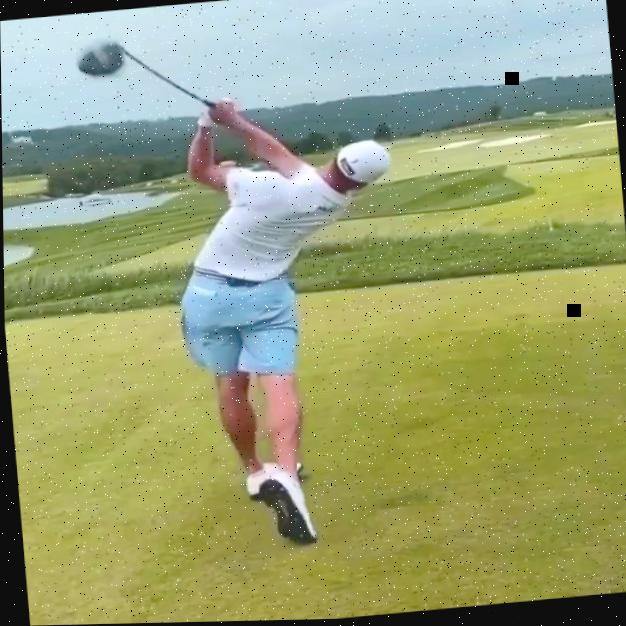ClubHead: (76, 42, 126, 78)
